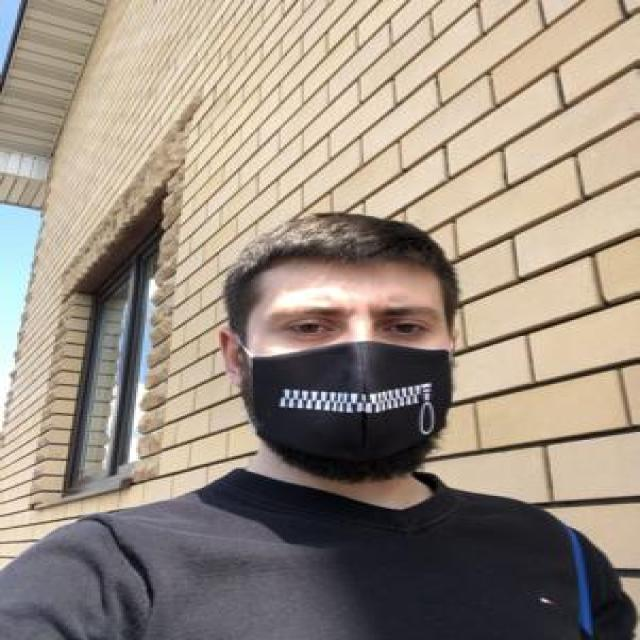with_mask: (239, 284, 463, 483)
